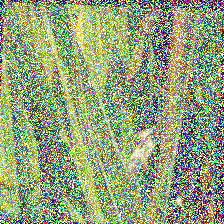Leaf_Blast: (144, 13, 186, 222)
